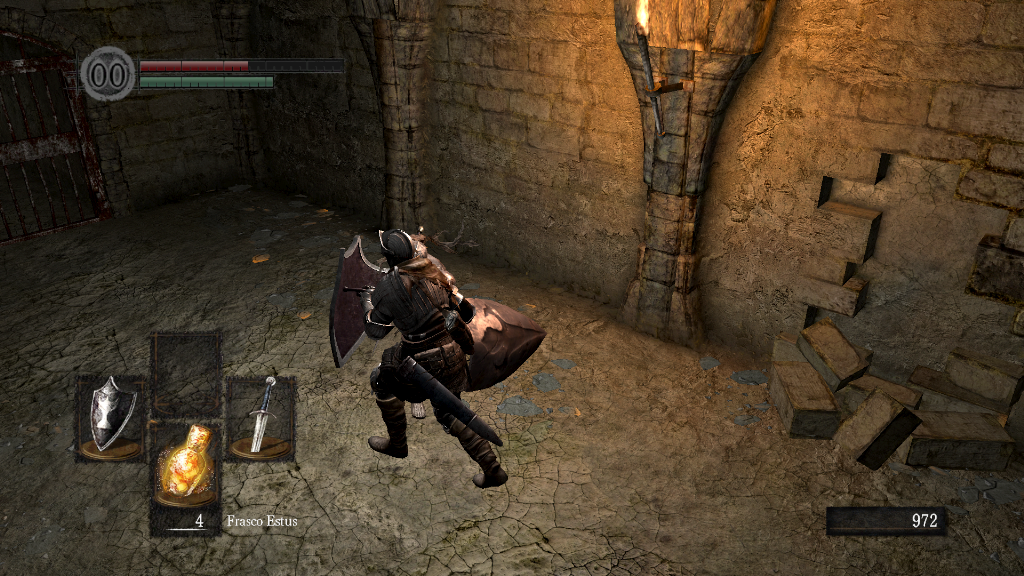health: (138, 58, 343, 71)
humanity: (80, 45, 136, 102)
player: (330, 228, 509, 489)
souls: (825, 506, 945, 536)
stamina: (138, 74, 274, 88)
